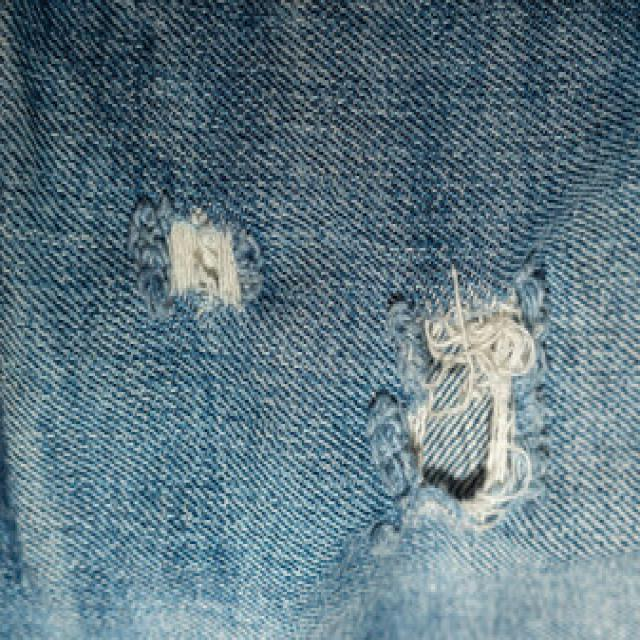Hole: (367, 264, 546, 556), (169, 212, 240, 307)
